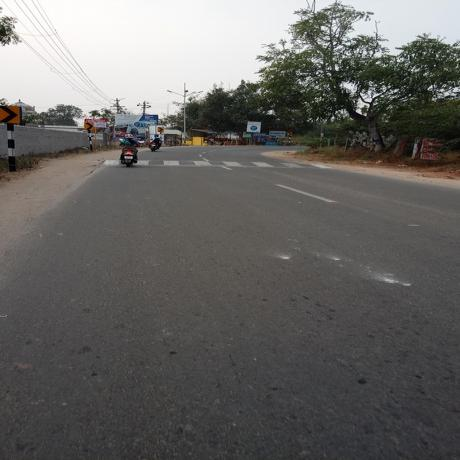Speed Bump: (99, 157, 329, 167)
